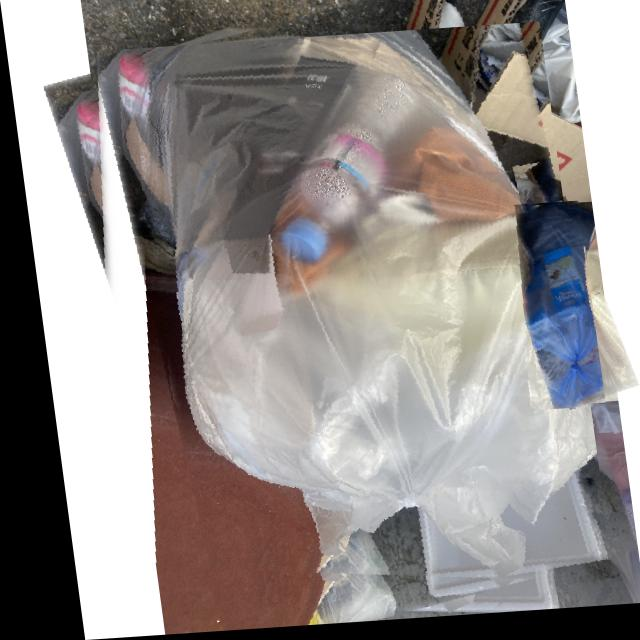other_trashbag: (86, 37, 583, 586), (508, 210, 590, 415)
